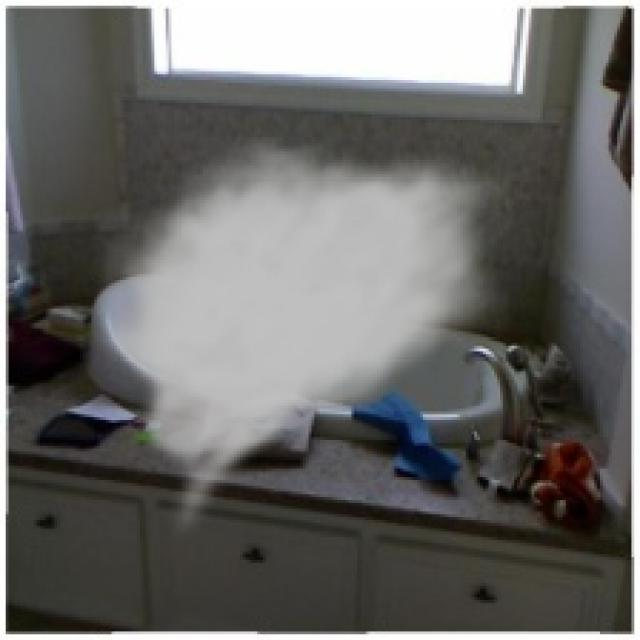Smoke: (88, 137, 514, 540)
